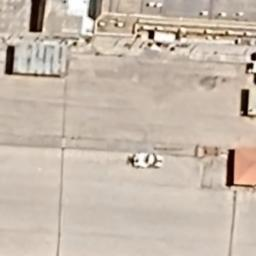others: (126, 150, 166, 172)
